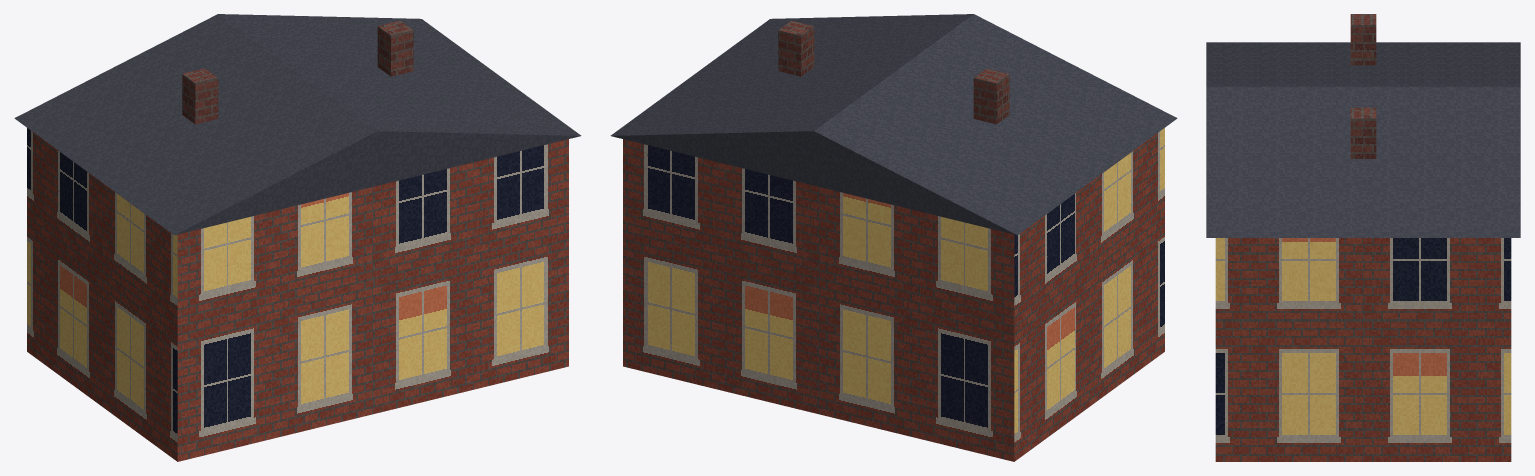
Rendered from env_shop_terrace.glb.
3 renders of one model, left to right at view 1: azimuth 30°, elevation 25°; view 2: azimuth 150°, elevation 25°; view 3: azimuth 270°, elevation 25°, orthographic.
Parts seen in each view (by area): view 1: env_shop_terrace; view 2: env_shop_terrace; view 3: env_shop_terrace.
Boxes of the visible parts, box(x1,y1,x2,y2) form: env_shop_terrace: box(14, 14, 581, 461); env_shop_terrace: box(610, 14, 1177, 461); env_shop_terrace: box(1206, 14, 1520, 461).
Bounding box in the file's own units: 12.5 × 9 × 8.5.
3 materials, 3 textured.
